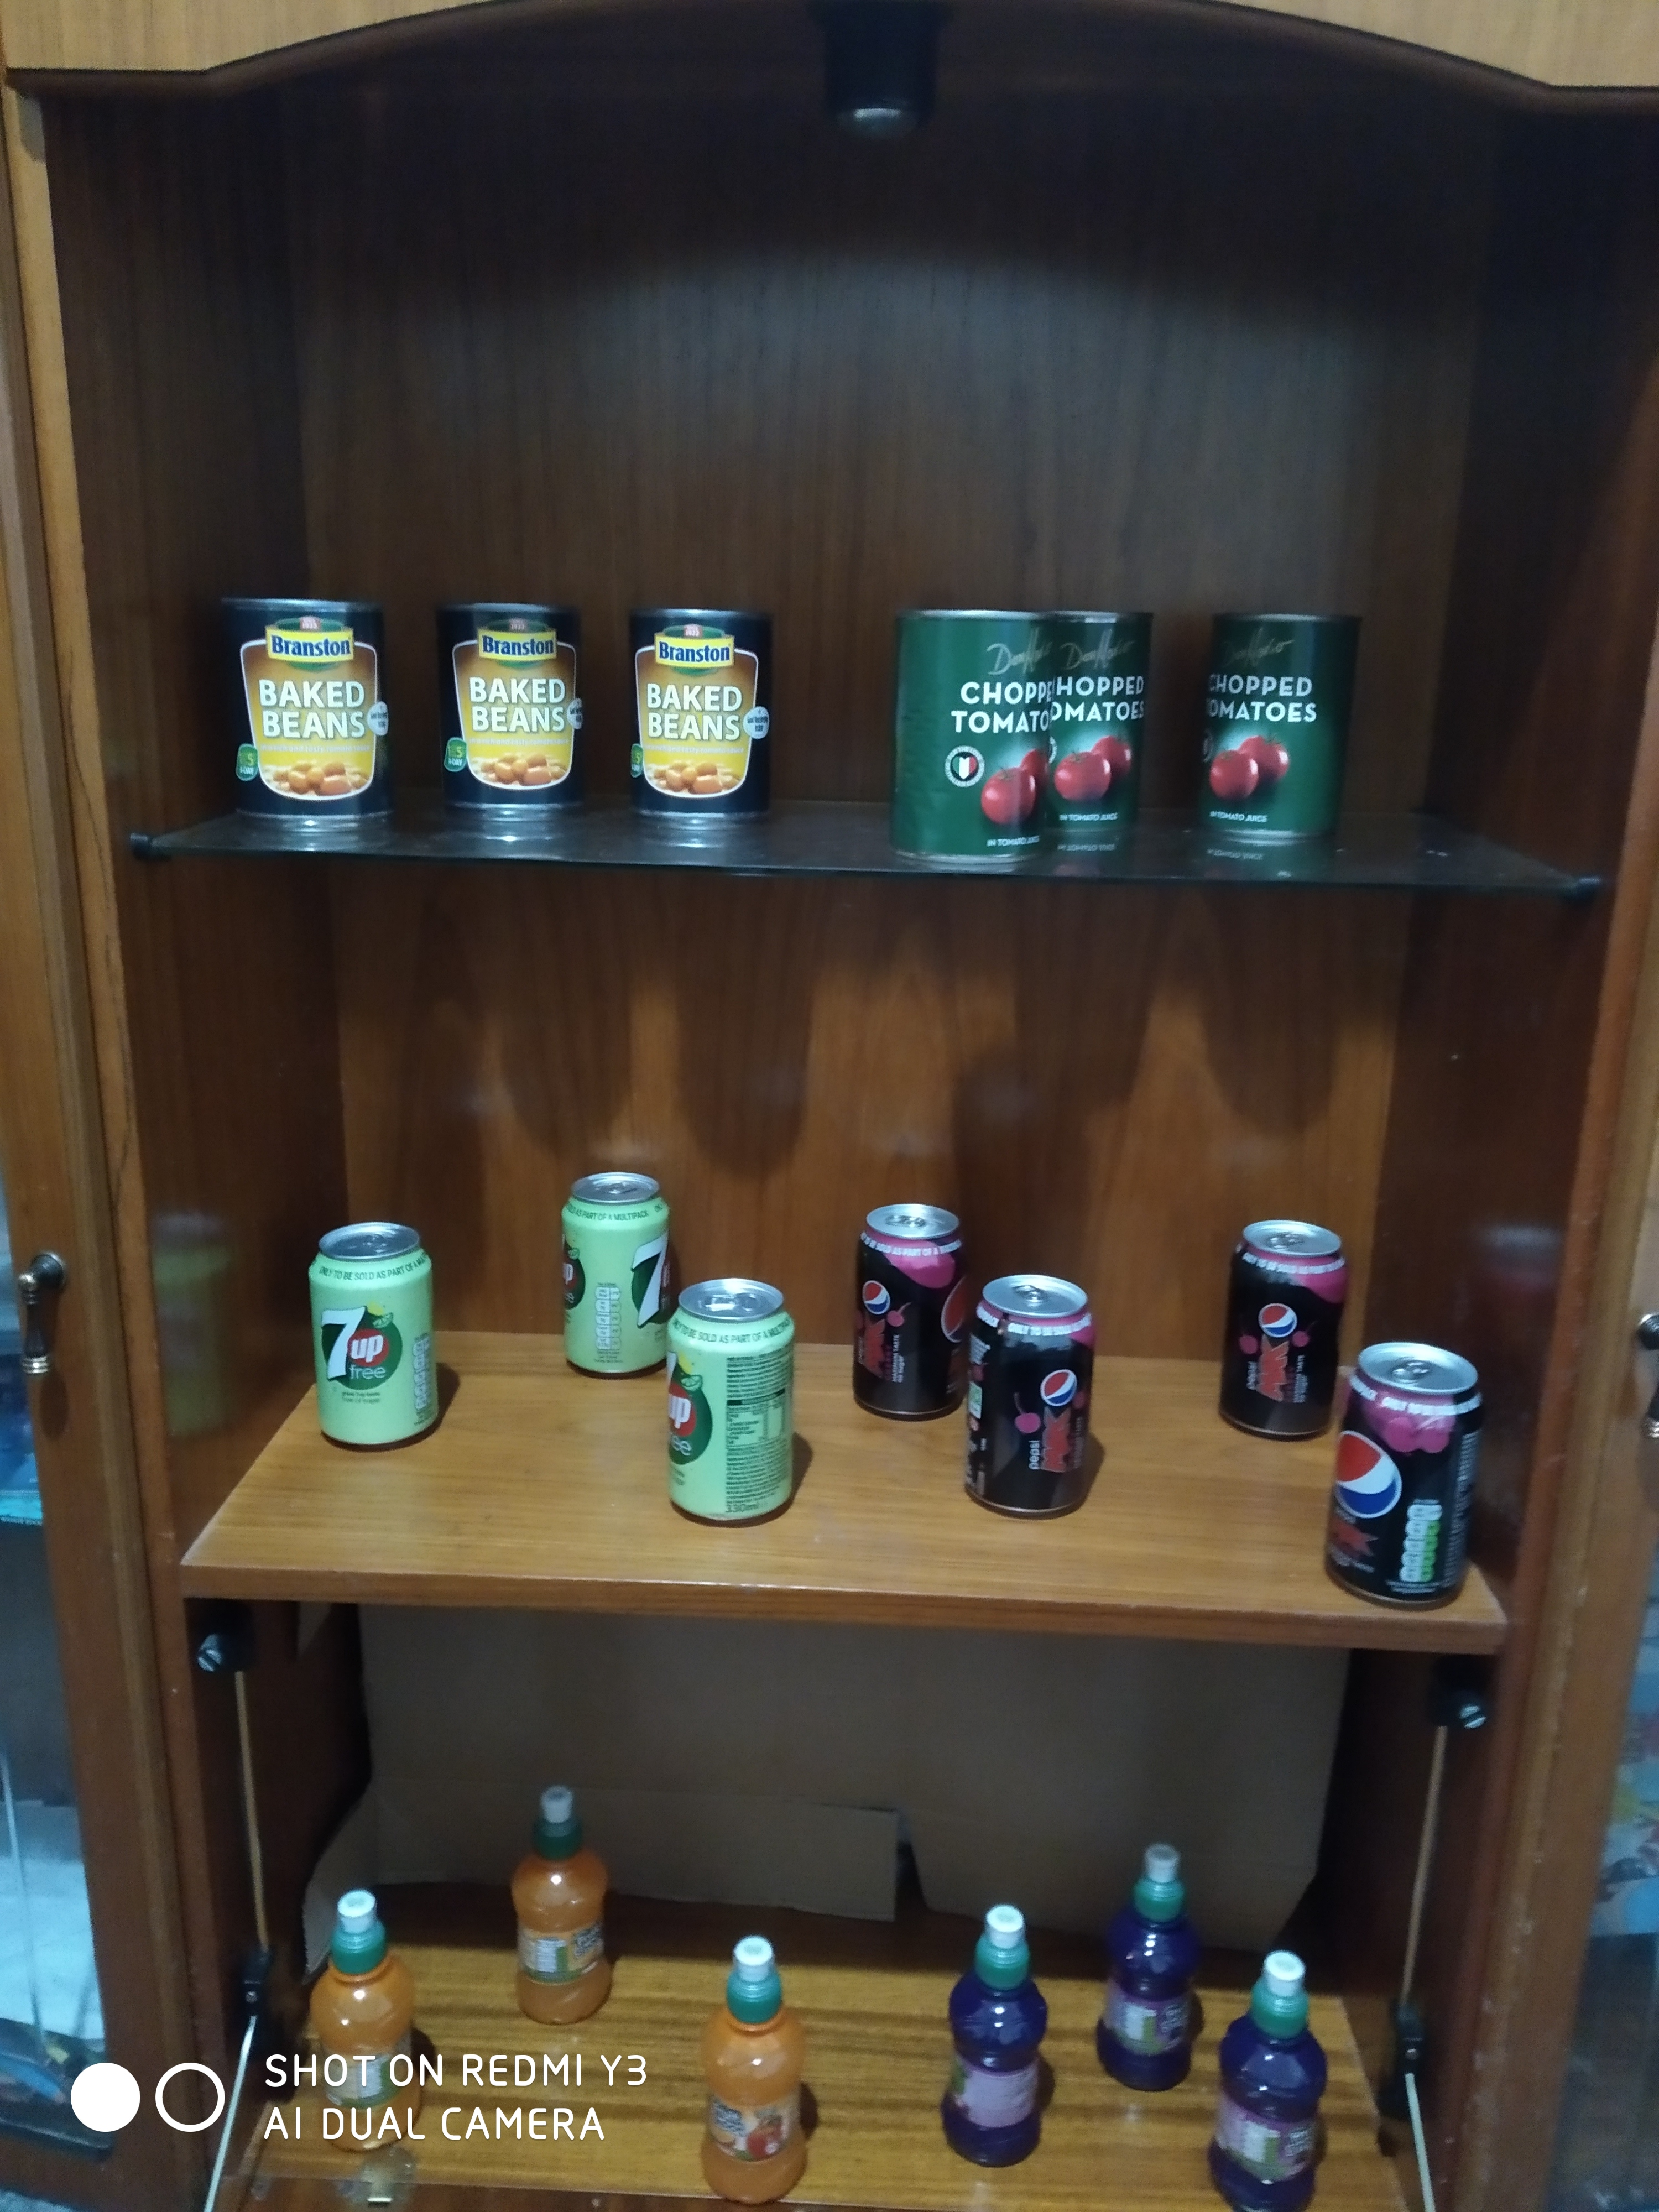beans: (232, 594, 390, 819)
